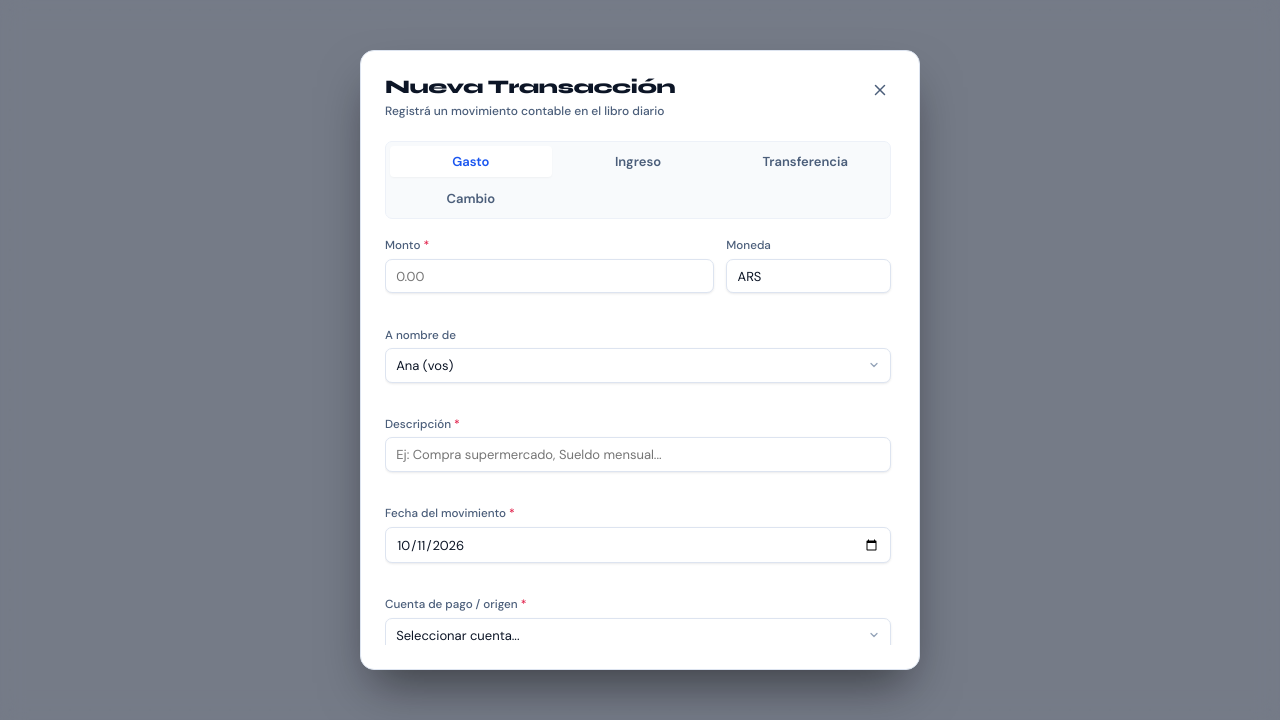
TransactionFormModal — cuentas propias y pregunta de deuda (plan 26) › pregunta de deuda (AC-16, RN-18, RN-19) › aparece con cuenta propia y reparto aplicable, con «Sí» marcado por defecto
The width and height of the screenshot is (1280, 720).
Type "100" into the number field labelled "Monto *".
click(550, 276); type("100")  # box [385,259,714,294]
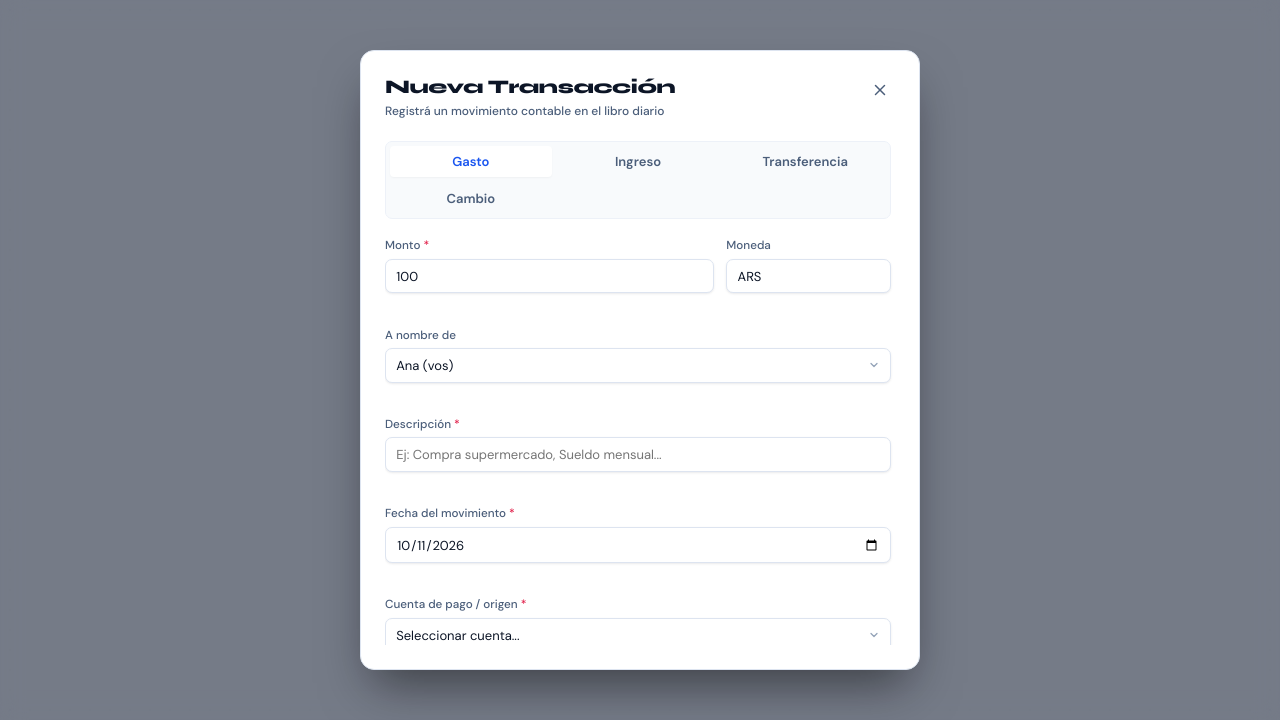
Select "Banco Ana (asset) · Compartida · reparto-demo" in the dropdown labelled "Cuenta de pago / origen *" at (638, 635), box [385,618,891,653]
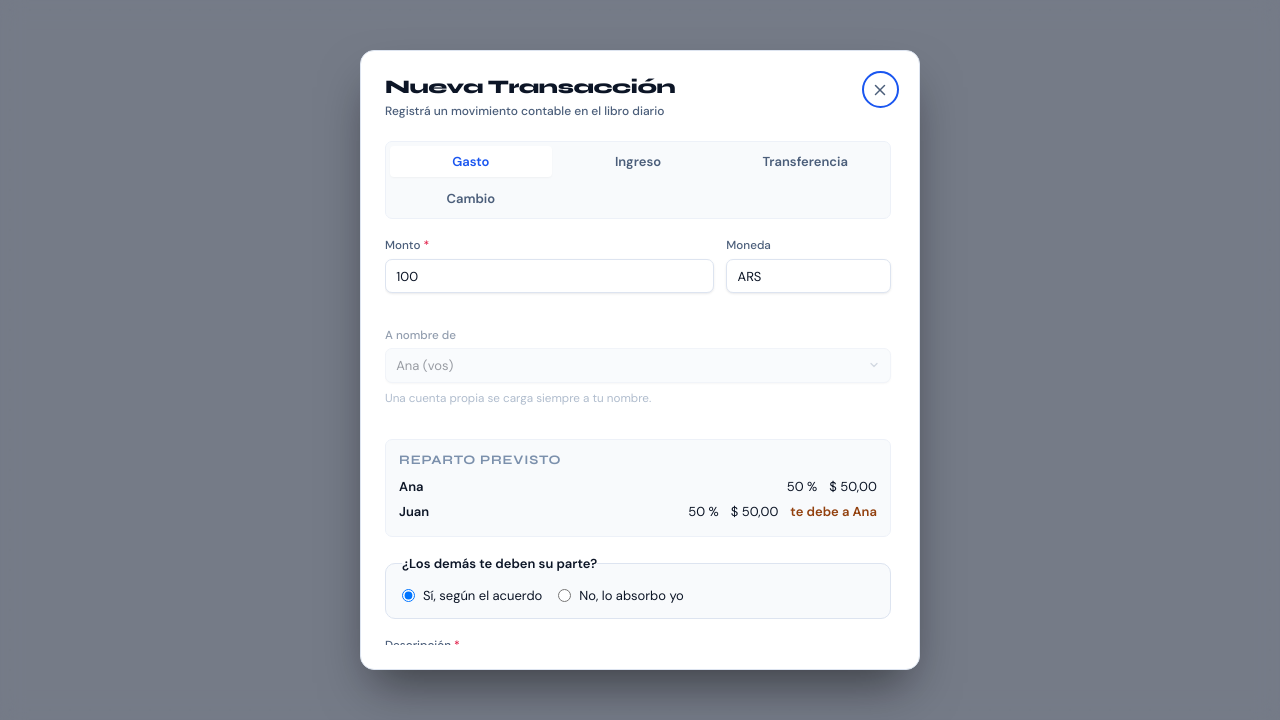
Expected: the text "¿Los demás te deben su parte?" is shown, [402,554,597,574]
Expected: the radio button labelled "Sí, según el acuerdo" is checked, [402,590,415,602]
Expected: the radio button labelled "No, lo absorbo yo" is not checked, [558,590,571,602]
